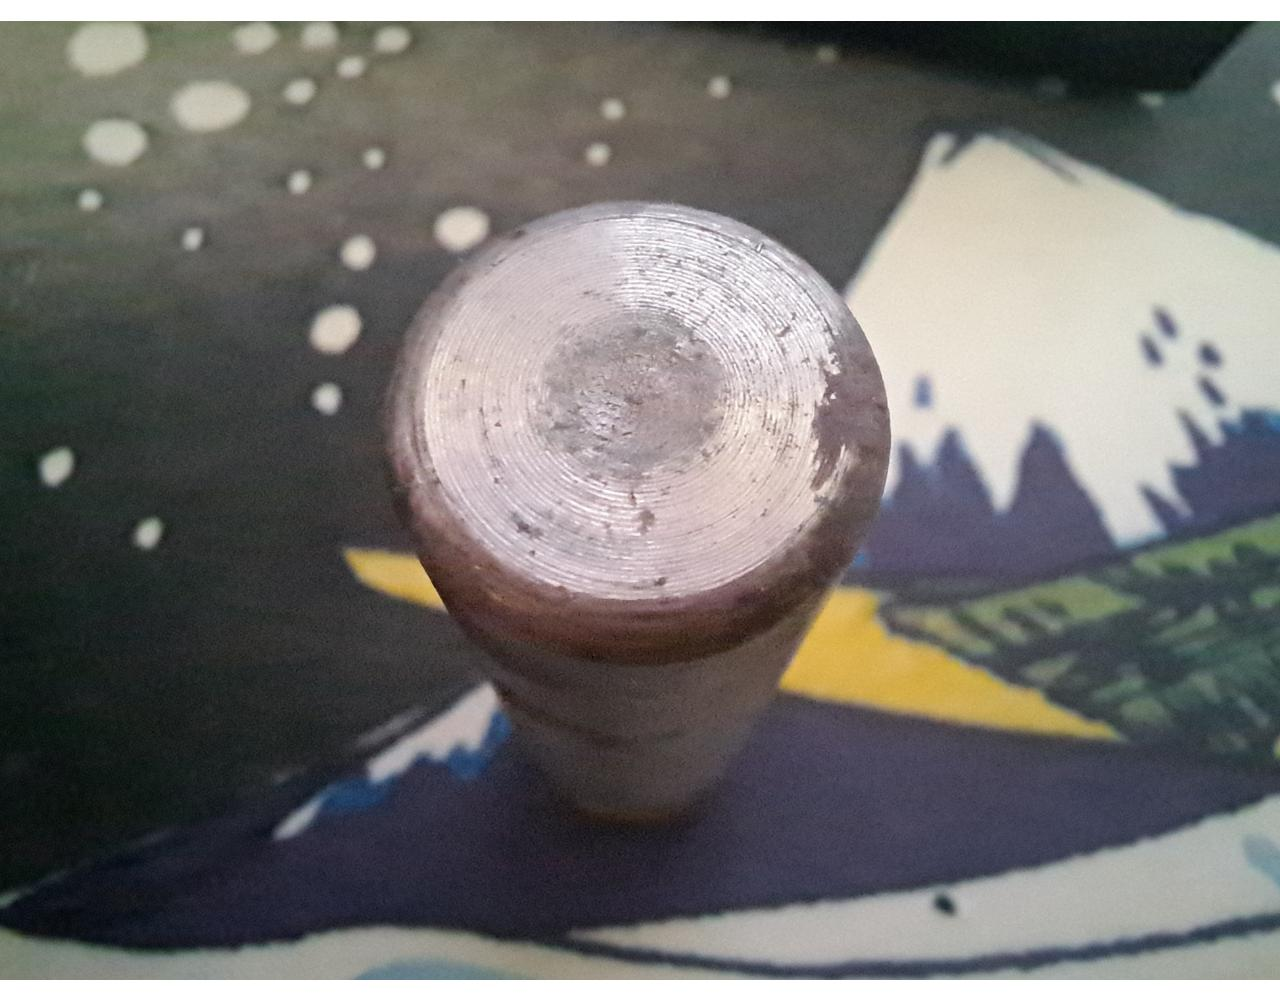planson: (371, 198, 891, 831)
